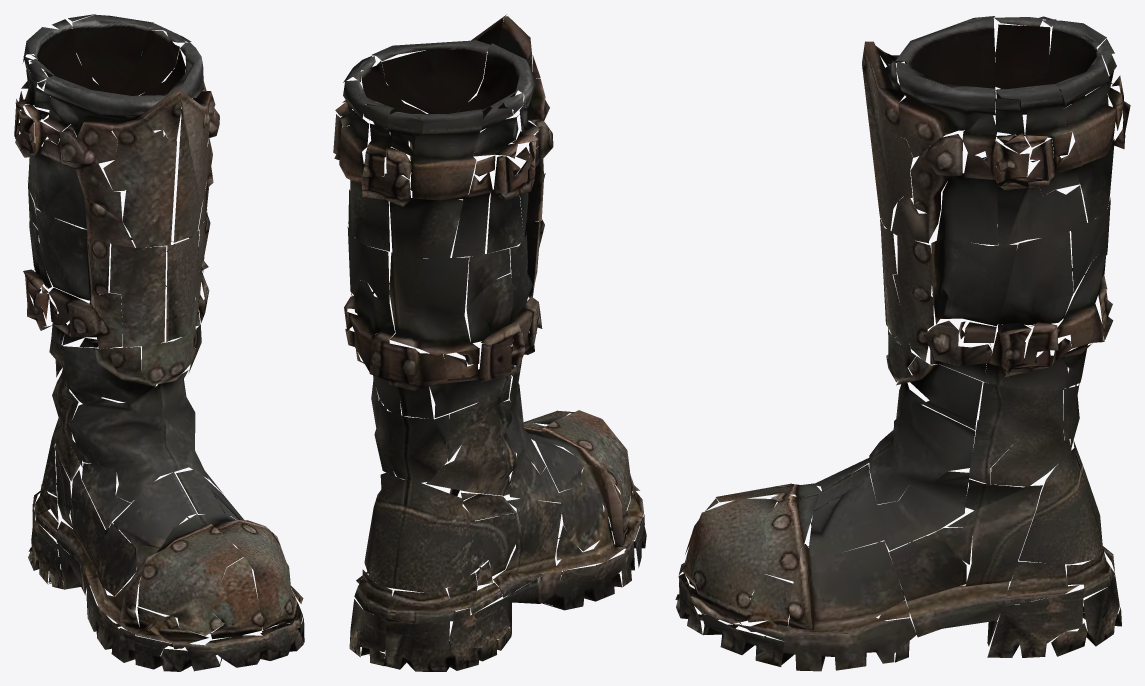
The model's file is a_sluice_boots.glb.
3 renders of one model, left to right at view 1: azimuth 30°, elevation 25°; view 2: azimuth 150°, elevation 25°; view 3: azimuth 270°, elevation 25°, orthographic. The views are drawn at different scales.
Visible parts, largest first — view 1: tripo_node_892a7d13-8db3-4021-8cfb-fa8c4bf19114; view 2: tripo_node_892a7d13-8db3-4021-8cfb-fa8c4bf19114; view 3: tripo_node_892a7d13-8db3-4021-8cfb-fa8c4bf19114.
Part boxes in pixels (x1,y1,x2,y2): tripo_node_892a7d13-8db3-4021-8cfb-fa8c4bf19114: (14, 14, 304, 671); tripo_node_892a7d13-8db3-4021-8cfb-fa8c4bf19114: (333, 14, 646, 671); tripo_node_892a7d13-8db3-4021-8cfb-fa8c4bf19114: (675, 16, 1130, 671).
Size of the model in its own units: 0.1765 by 0.4998 by 0.3504.
Materials: 1 (1 with a texture image).
